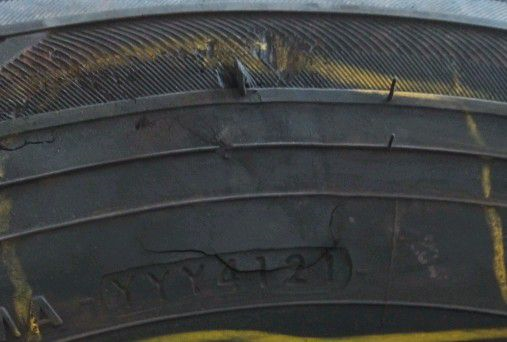cut: (146, 204, 338, 276)
